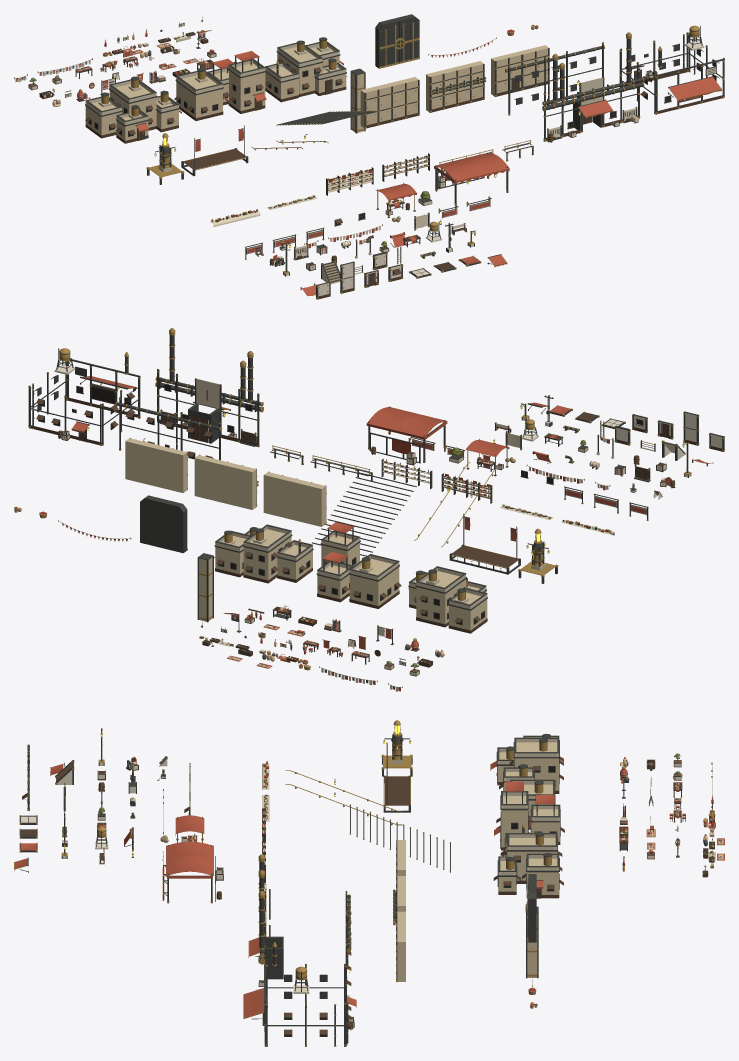
Rendered from kit_town.glb.
The picture shows the model from 3 angles, top to bottom: view 1: azimuth 30°, elevation 25°; view 2: azimuth 150°, elevation 25°; view 3: azimuth 270°, elevation 25°; orthographic projection. The views are drawn at different scales.
Parts seen in each view (by area): view 1: workshop_front, lower_block_b, lower_block_a, lower_block_c, diner_front, retaining_a, retaining_b, gate_door, retaining_c, stall, stage, parapet_corner (+6 smaller); view 2: workshop_front, lower_block_b, lower_block_c, diner_front, lower_block_a, retaining_a, retaining_b, retaining_c, stall, gate_door, stair_treads_16, stage (+5 smaller); view 3: lower_block_c, lower_block_b, diner_front, lower_block_a, workshop_front, stall, stage, monument, stair_treads_16, retaining_c, gate_door, tent (+1 smaller).
Boxes of the visible parts, x1=… form: workshop_front: x1=505, y1=32, x2=644, y2=142; lower_block_b: x1=174, y1=51, x2=266, y2=120; lower_block_a: x1=85, y1=76, x2=181, y2=143; lower_block_c: x1=265, y1=37, x2=347, y2=102; diner_front: x1=619, y1=25, x2=724, y2=114; retaining_a: x1=360, y1=77, x2=419, y2=128; retaining_b: x1=426, y1=61, x2=486, y2=112; gate_door: x1=375, y1=14, x2=419, y2=68; retaining_c: x1=491, y1=45, x2=549, y2=96; stall: x1=434, y1=152, x2=509, y2=205; stage: x1=181, y1=125, x2=248, y2=176; parapet_corner: x1=350, y1=68, x2=365, y2=133; workshop_front: x1=115, y1=328, x2=263, y2=460; lower_block_b: x1=316, y1=522, x2=401, y2=608; lower_block_c: x1=214, y1=524, x2=313, y2=583; diner_front: x1=28, y1=348, x2=140, y2=445; lower_block_a: x1=408, y1=566, x2=487, y2=633; retaining_a: x1=263, y1=471, x2=326, y2=526; retaining_b: x1=194, y1=454, x2=258, y2=509; retaining_c: x1=125, y1=438, x2=187, y2=492; stall: x1=366, y1=406, x2=447, y2=465; gate_door: x1=140, y1=495, x2=187, y2=553; stair_treads_16: x1=312, y1=472, x2=416, y2=556; stage: x1=449, y1=513, x2=520, y2=574; lower_block_c: x1=493, y1=824, x2=563, y2=898; lower_block_b: x1=494, y1=779, x2=564, y2=850; diner_front: x1=243, y1=942, x2=356, y2=1046; lower_block_a: x1=490, y1=733, x2=563, y2=793; workshop_front: x1=248, y1=854, x2=351, y2=990; stall: x1=166, y1=841, x2=223, y2=903; stage: x1=383, y1=742, x2=410, y2=812; monument: x1=381, y1=720, x2=412, y2=776; stair_treads_16: x1=349, y1=804, x2=450, y2=872; retaining_c: x1=396, y1=911, x2=405, y2=981; gate_door: x1=525, y1=874, x2=536, y2=942; tent: x1=175, y1=815, x2=204, y2=842.
Bounding box in the file's own units: 75.89 × 20.8 × 79.99.
